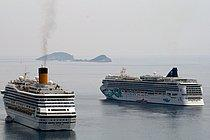Ship: (1, 63, 80, 134), (98, 66, 209, 110)
